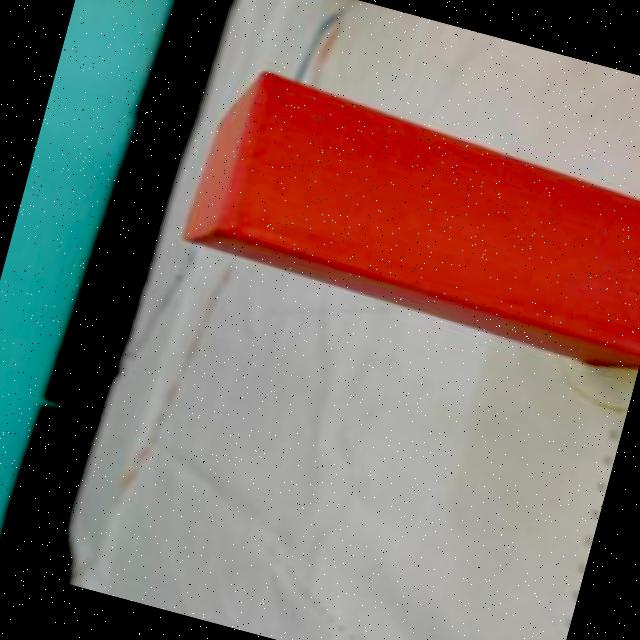redbox: (173, 61, 640, 383)
